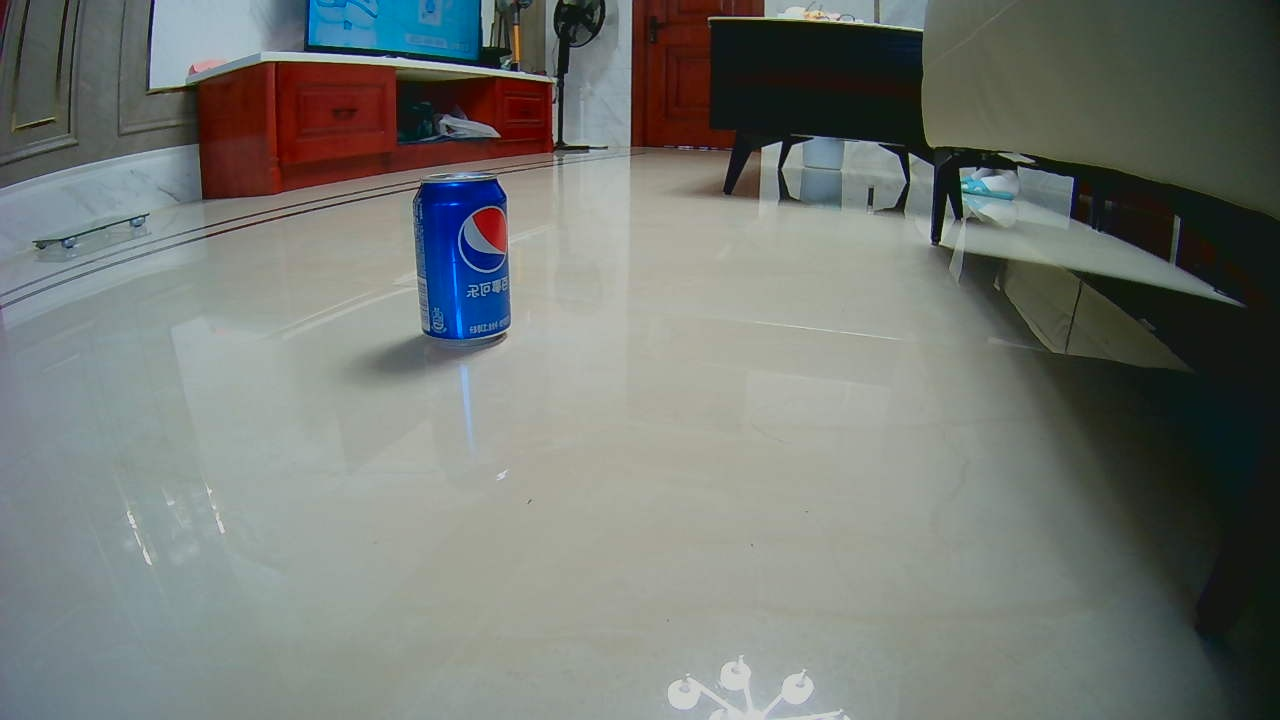pessi: (413, 181, 511, 341)
